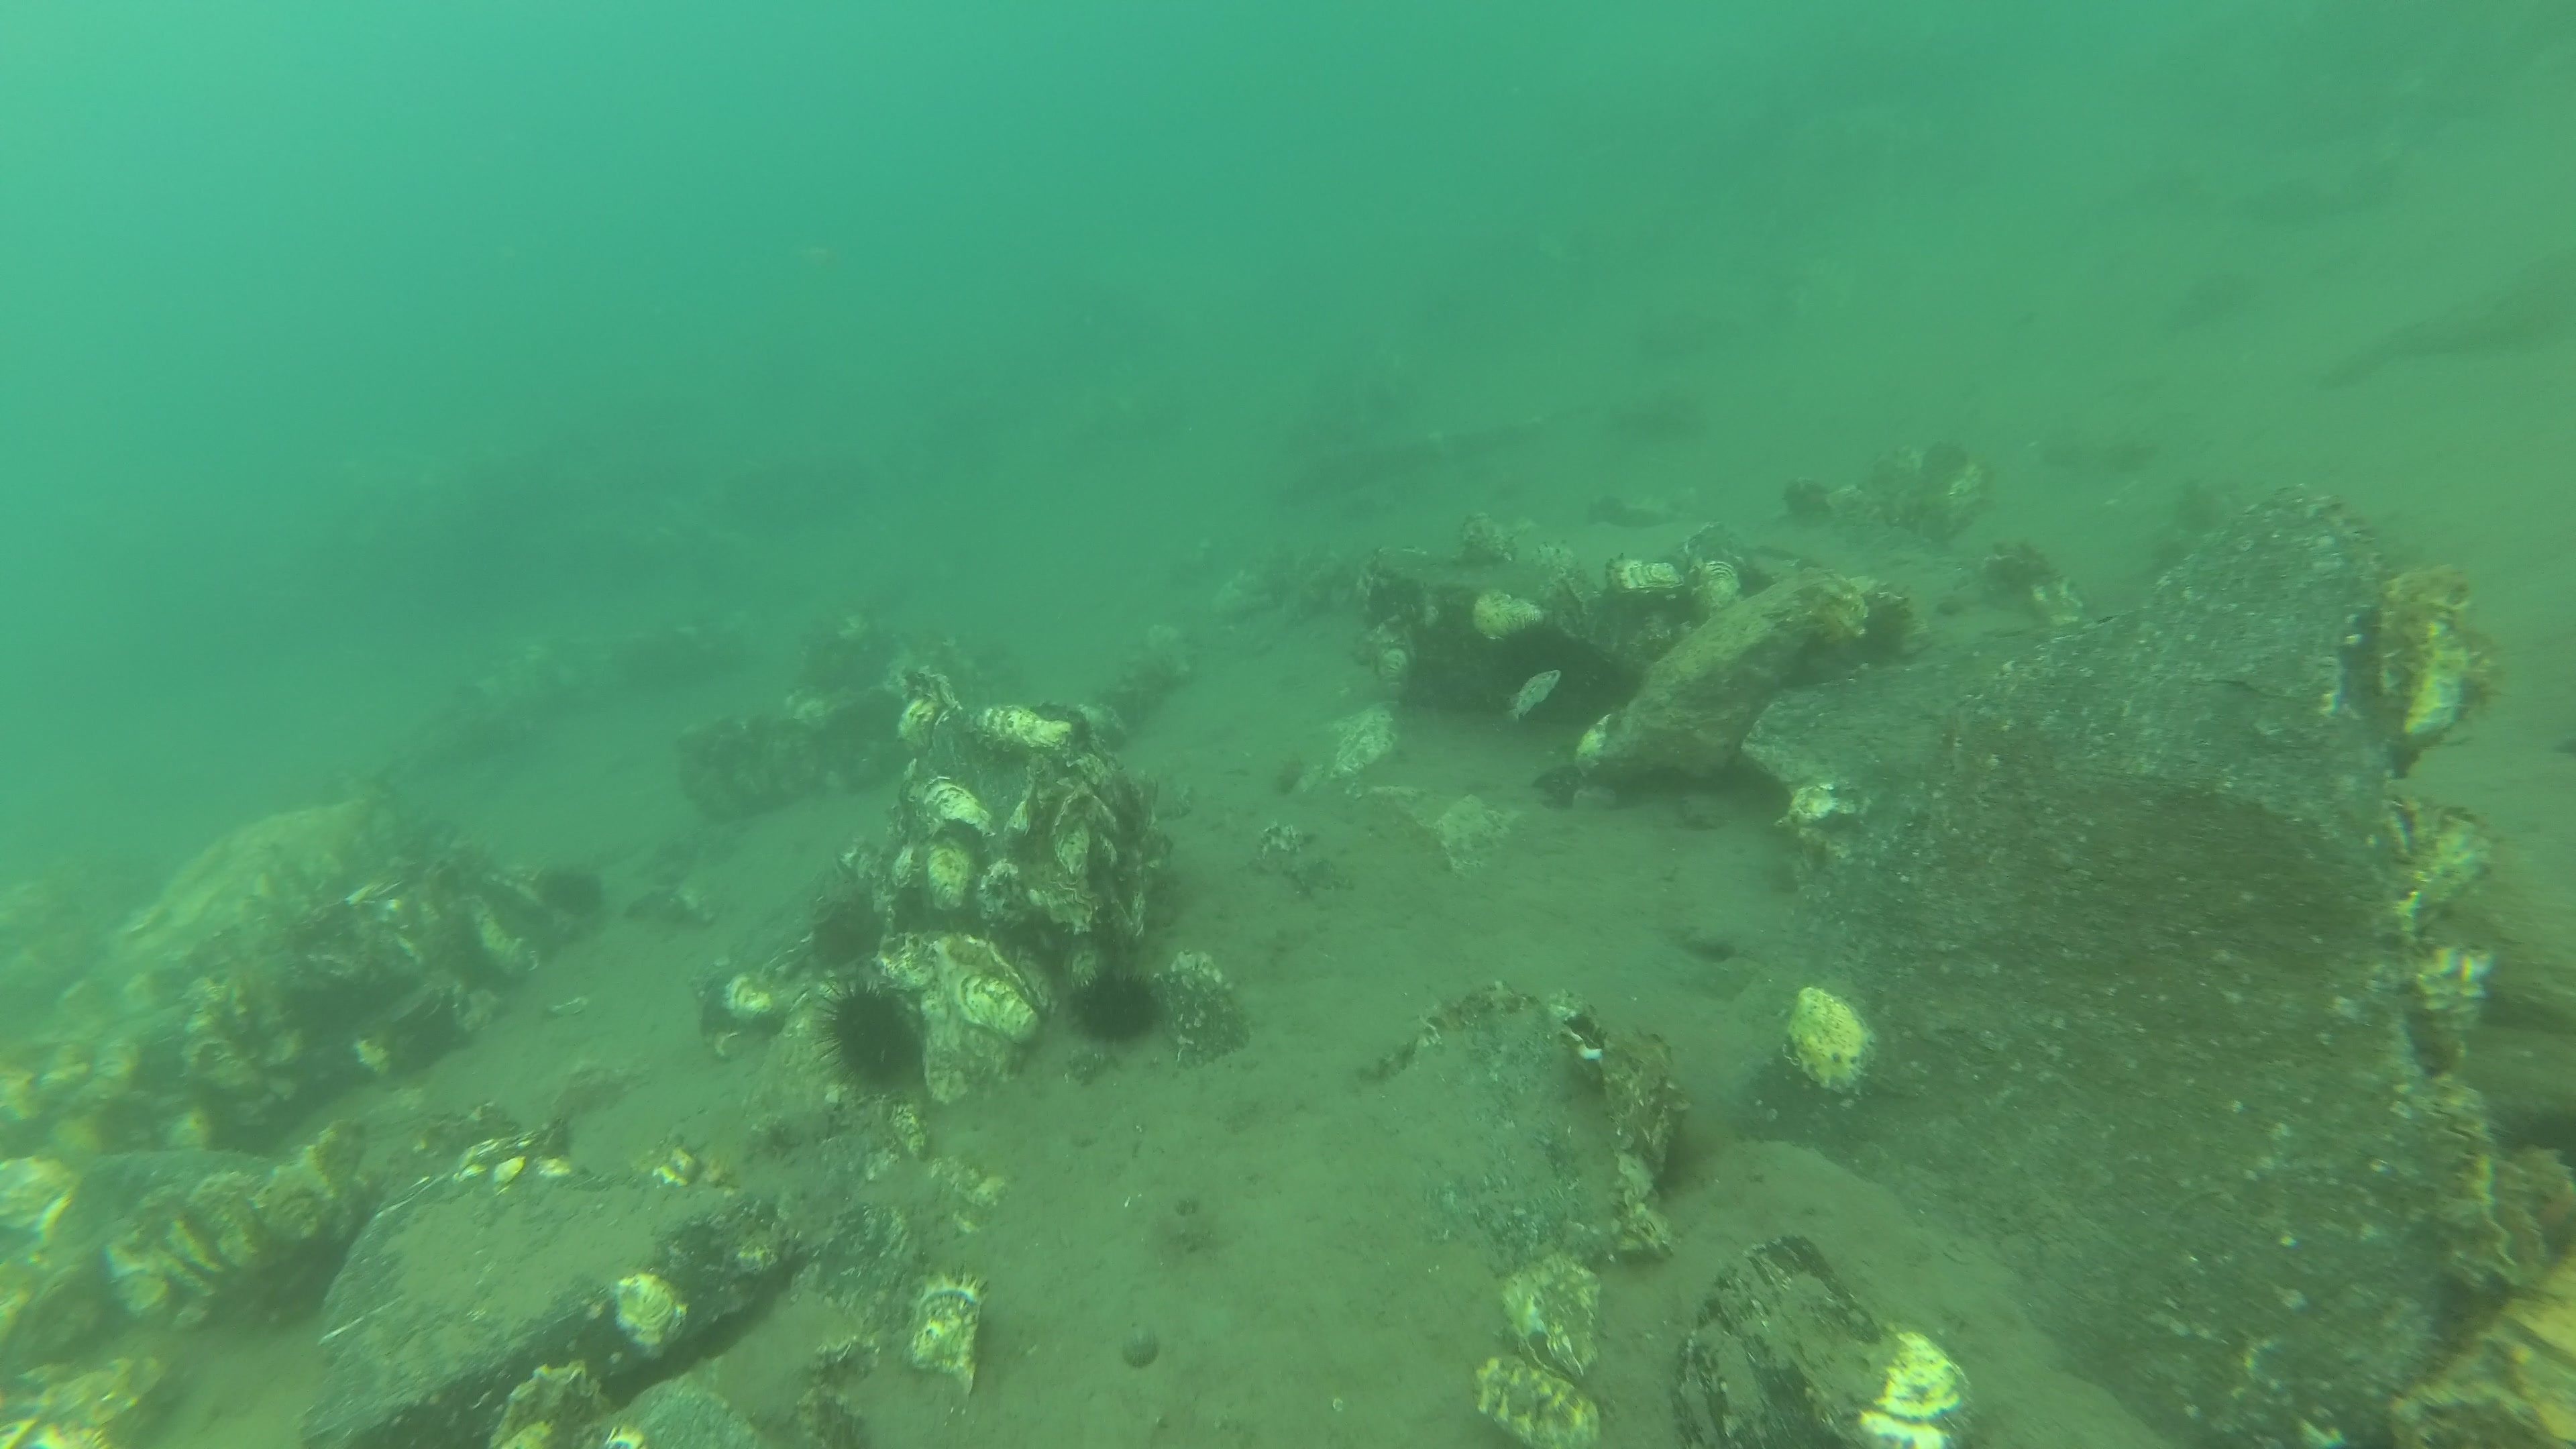echinus: (810, 966, 925, 1097), (1070, 959, 1164, 1047), (1488, 610, 1592, 686), (2482, 1093, 2576, 1169), (545, 870, 607, 922)
